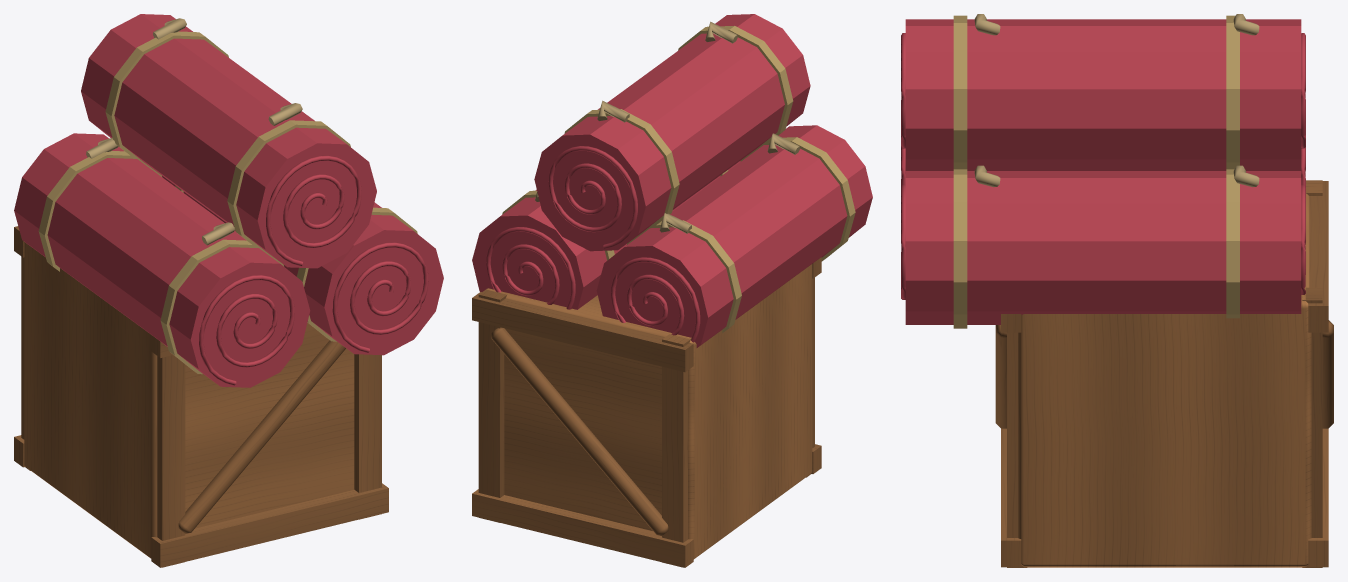
The model's file is cargo_silk.glb.
3 views of the same model, side by side, from view 1: azimuth 30°, elevation 25°; view 2: azimuth 150°, elevation 25°; view 3: azimuth 270°, elevation 25° (orthographic). The views are drawn at different scales.
Parts seen in each view (by area): view 1: Solid_Ref_Silk, Solid_Ref_D19_Deck, Solid_Ref_D19_Wood, Solid_Ref_Rope, Solid_Ref_D19_Cord; view 2: Solid_Ref_Silk, Solid_Ref_D19_Deck, Solid_Ref_D19_Wood, Solid_Ref_Rope, Solid_Ref_D19_Cord; view 3: Solid_Ref_Silk, Solid_Ref_D19_Deck, Solid_Ref_D19_Wood, Solid_Ref_Rope, Solid_Ref_D19_Cord.
Boxes of the visible parts, left/top/right/bottom form: Solid_Ref_Silk: left=14, top=14, right=443, bottom=387; Solid_Ref_D19_Deck: left=24, top=242, right=354, bottom=558; Solid_Ref_D19_Wood: left=14, top=226, right=388, bottom=567; Solid_Ref_Rope: left=38, top=31, right=417, bottom=374; Solid_Ref_D19_Cord: left=86, top=18, right=302, bottom=245; Solid_Ref_Silk: left=472, top=14, right=872, bottom=347; Solid_Ref_D19_Deck: left=487, top=264, right=812, bottom=559; Solid_Ref_D19_Wood: left=472, top=257, right=821, bottom=567; Solid_Ref_Rope: left=502, top=25, right=855, bottom=332; Solid_Ref_D19_Cord: left=535, top=21, right=799, bottom=233; Solid_Ref_Silk: left=901, top=19, right=1305, bottom=324; Solid_Ref_D19_Deck: left=1018, top=193, right=1311, bottom=567; Solid_Ref_D19_Wood: left=995, top=180, right=1333, bottom=567; Solid_Ref_Rope: left=953, top=15, right=1239, bottom=328; Solid_Ref_D19_Cord: left=974, top=14, right=1259, bottom=187.
Bounding box in the file's own units: 0.736 × 1.2 × 0.9525.
Materials: 5 (2 with a texture image).
